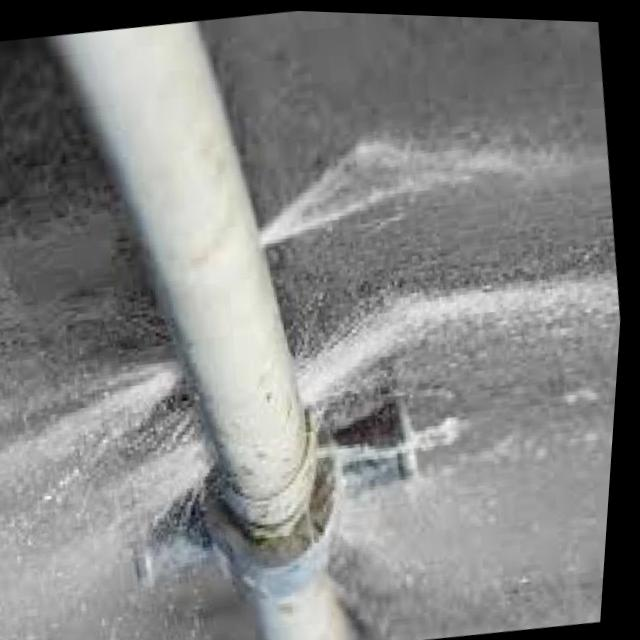leak: (264, 128, 620, 639), (0, 343, 224, 640)
